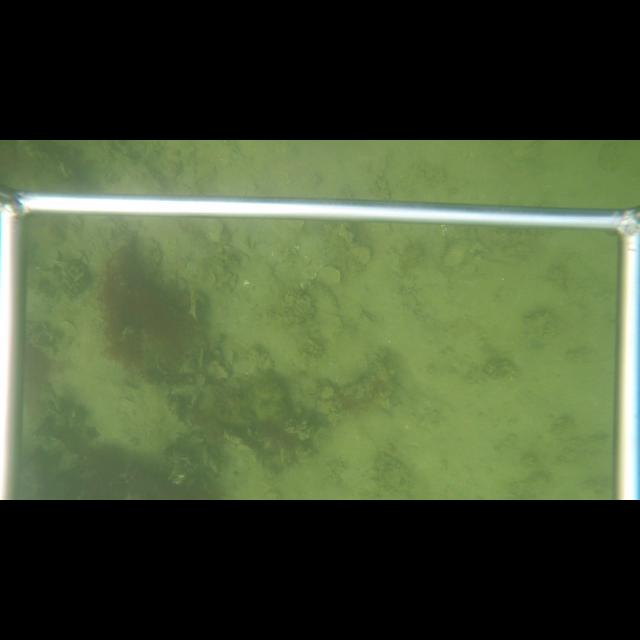Oyster-Closed: (216, 365, 230, 378)
Oyster-Open: (191, 299, 200, 324)
